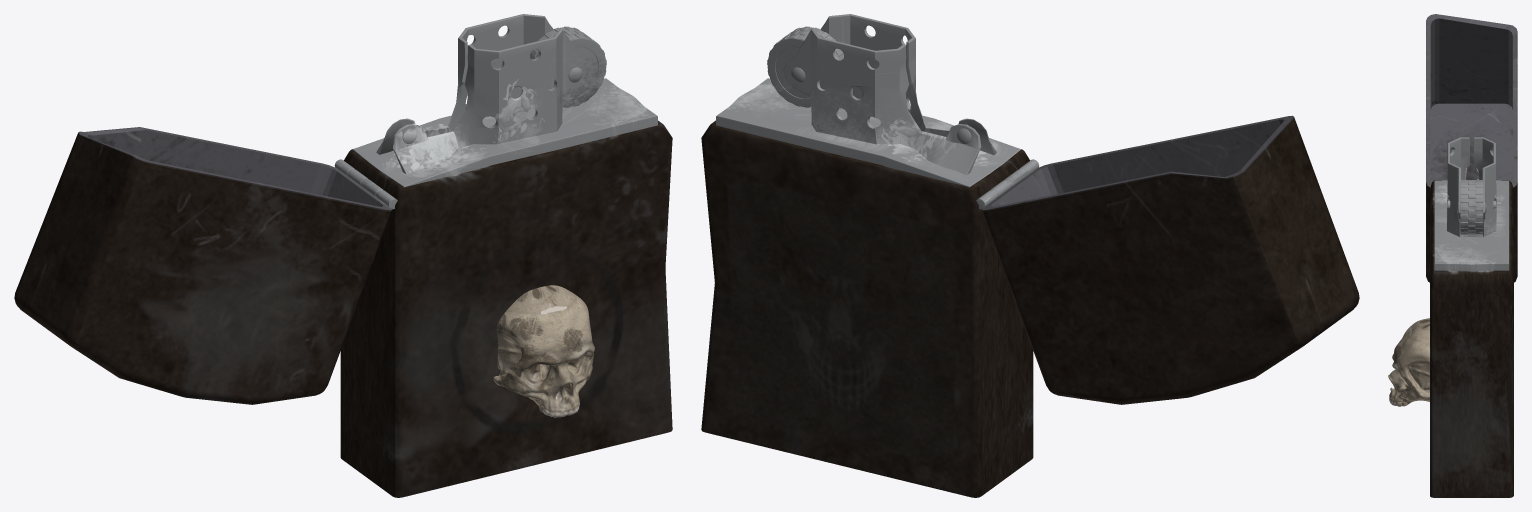
The model's file is zippo.glb.
3 views of the same model, side by side, from view 1: azimuth 30°, elevation 25°; view 2: azimuth 150°, elevation 25°; view 3: azimuth 270°, elevation 25° (orthographic). The views are drawn at different scales.
Parts seen in each view (by area): view 1: pCube4, pCylinder13, skull__1_; view 2: pCube4, pCylinder13; view 3: pCube4, pCylinder13, skull__1_.
Part boxes in pixels (bbox=[...]): pCube4: bbox=[14, 120, 672, 497]; pCylinder13: bbox=[353, 14, 657, 187]; skull__1_: bbox=[493, 285, 594, 417]; pCube4: bbox=[701, 115, 1359, 497]; pCylinder13: bbox=[716, 14, 1020, 187]; pCube4: bbox=[1426, 14, 1517, 497]; pCylinder13: bbox=[1434, 137, 1509, 271]; skull__1_: bbox=[1388, 318, 1429, 406].
Bounding box in the file's own units: 32.77 × 21.21 × 8.37.
3 materials, 3 textured.
